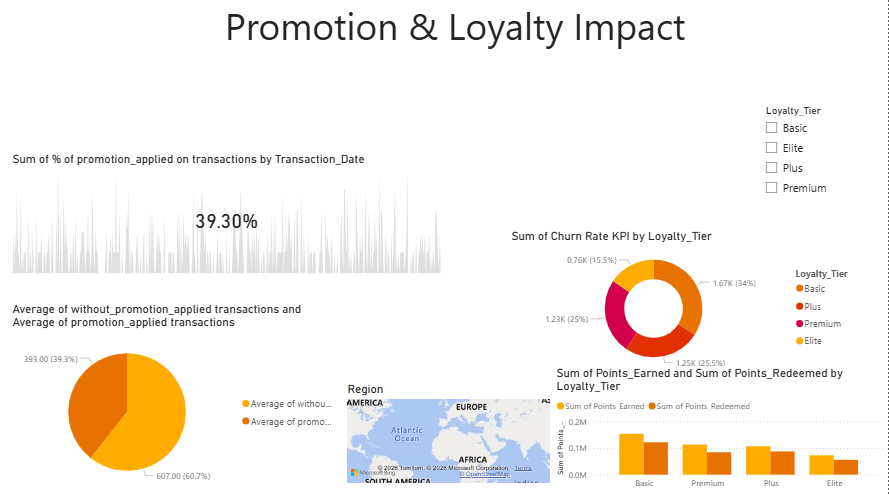

This screenshot's page, from the dashboard's own definition file:
{"tool":"powerbi","page":{"name":"T4","canvas":[1280,720],"ordinal":2},"visuals":[{"type":"kpi","fields":{"Indicator":["Sum(Customer_Transactions.% of promotion_applied on transactions)"],"TrendLine":["Customer_Transactions.Transaction_Date"]},"box":[13.3,226.7,626.7,180],"z":0},{"type":"pieChart","fields":{"Y":["Avg(Customer_Transactions.without_promotion_applied transactions)","Avg(Customer_Transactions.promotion_applied transactions)"]},"box":[13.4,441.8,482.1,278.8],"z":1000},{"type":"donutChart","fields":{"Y":["Sum(Customer_Demographics.Churn Rate KPI)"],"Category":["Loyalty_Program.Loyalty_Tier"]},"box":[731.7,336.7,510,210],"z":2000},{"type":"clusteredColumnChart","fields":{"Y":["Sum(Loyalty_Program.Points_Earned)","Sum(Loyalty_Program.Points_Redeemed)"],"Category":["Loyalty_Program.Loyalty_Tier"]},"box":[796.2,534.2,483.8,186.5],"z":3000},{"type":"filledMap","fields":{"Series":["Customer_Demographics.Region"]},"box":[495.5,557.7,300.7,149.5],"z":4000},{"type":"slicer","fields":{"Values":["Loyalty_Program.Loyalty_Tier"]},"box":[1090,152.5,172.5,147.5],"z":5000},{"type":"textbox","box":[47,1.7,1216.2,149.5],"z":6000}]}

Visuals, with their boxes in screenshot pixels (x1, y1, x2, y2), scaled from the page's 1280x720 canvas onto the 889x495 screenshot:
kpi - Sum(Customer_Transactions.% of promotion_applied on transactions) x Customer_Transactions.Transaction_Date: rect(9, 156, 444, 280)
pieChart - Avg(Customer_Transactions.without_promotion_applied transactions) x Avg(Customer_Transactions.promotion_applied transactions): rect(9, 304, 344, 494)
donutChart - Sum(Customer_Demographics.Churn Rate KPI) x Loyalty_Program.Loyalty_Tier: rect(508, 231, 862, 376)
clusteredColumnChart - Sum(Loyalty_Program.Points_Earned) x Sum(Loyalty_Program.Points_Redeemed): rect(553, 367, 888, 494)
filledMap - Customer_Demographics.Region: rect(344, 383, 553, 486)
slicer - Loyalty_Program.Loyalty_Tier: rect(757, 105, 877, 206)
textbox: rect(33, 1, 877, 104)
